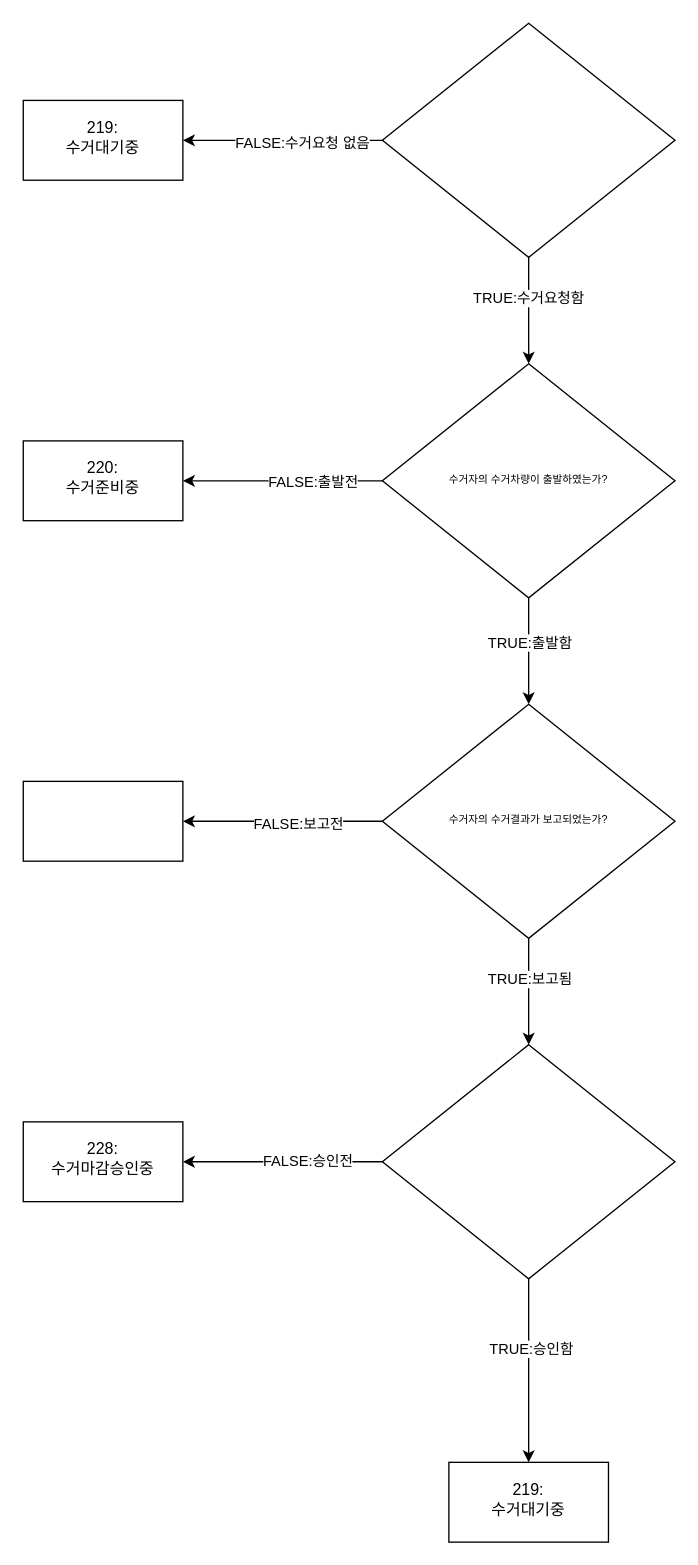
Some shapes in this 698 by 1565 pixel diagram are drawn without their labels. The centre of each missing label's shape, as x and y in pixels:
216: 수거마감중: the point at 102,820
배출자가 수거요청을 하였는가?: the point at 528,139
배출자가 수거자의 수거결과보고에 승인하였는가?: the point at 528,1161
